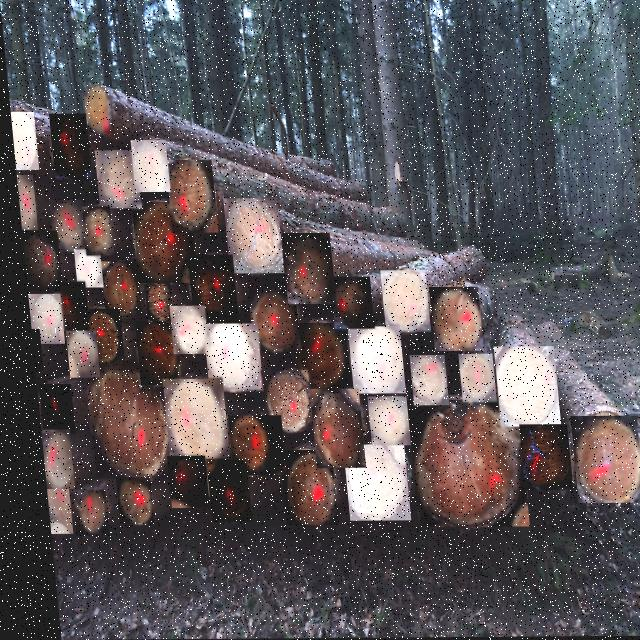wood-log: (399, 400, 519, 528), (78, 362, 165, 479), (562, 417, 634, 504), (155, 379, 221, 466), (486, 347, 553, 427), (127, 202, 193, 283), (334, 445, 401, 521), (219, 198, 279, 274), (270, 450, 328, 526), (302, 389, 357, 468), (197, 324, 256, 392), (341, 327, 399, 394), (287, 323, 344, 391), (277, 233, 330, 304), (163, 160, 214, 233), (510, 425, 563, 491), (182, 255, 233, 323), (423, 288, 477, 352), (220, 416, 277, 476), (253, 371, 305, 435), (242, 290, 294, 352), (375, 271, 424, 333), (128, 321, 174, 385), (47, 114, 89, 182), (197, 459, 242, 522), (91, 150, 138, 209), (77, 308, 119, 364), (18, 231, 57, 291), (324, 277, 368, 329), (96, 261, 136, 318), (158, 456, 200, 508), (359, 397, 402, 446), (128, 140, 167, 192), (402, 356, 441, 406), (33, 430, 65, 489), (45, 200, 81, 252), (163, 306, 202, 354), (451, 355, 489, 403), (31, 384, 67, 434), (22, 294, 58, 344), (47, 282, 83, 331), (107, 477, 144, 524), (62, 490, 99, 536), (59, 331, 93, 378), (9, 112, 36, 170), (78, 206, 109, 256), (36, 477, 62, 534), (83, 87, 112, 134), (139, 283, 168, 323), (69, 250, 98, 288), (13, 175, 33, 230), (25, 329, 36, 371)
